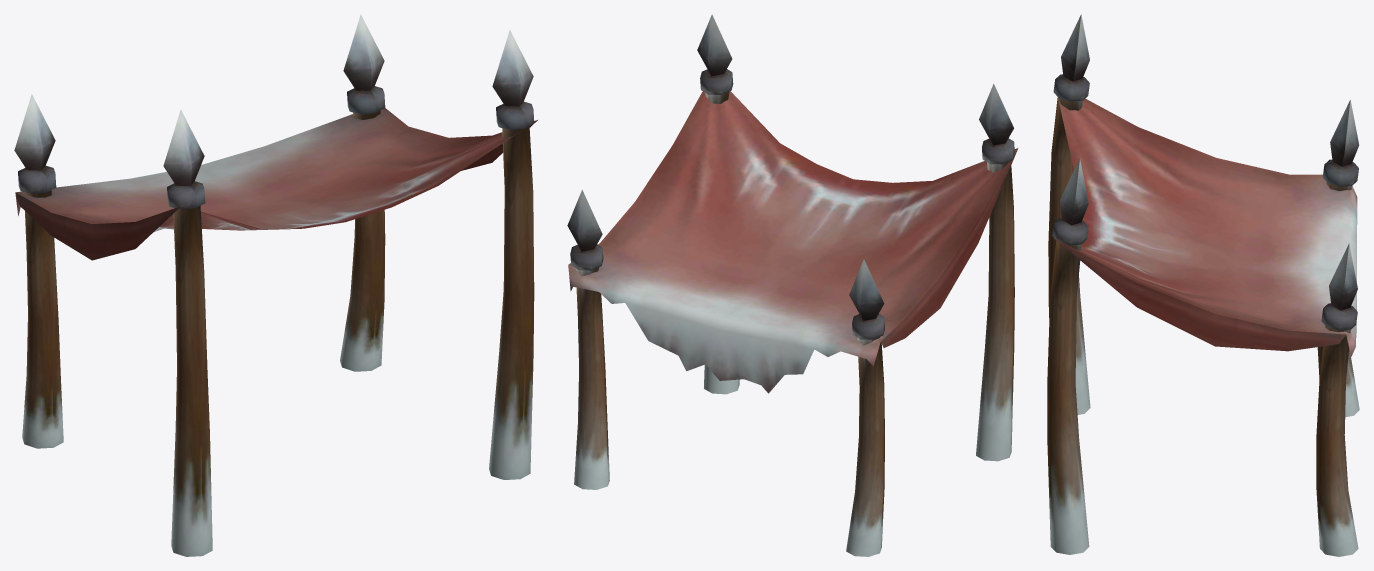
File: h5_xuepengzi.FBX
3 views of the same model, side by side, from view 1: azimuth 30°, elevation 25°; view 2: azimuth 150°, elevation 25°; view 3: azimuth 270°, elevation 25° (orthographic). The views are drawn at different scales.
Parts seen in each view (by area): view 1: h5_xuepengzi; view 2: h5_xuepengzi; view 3: h5_xuepengzi.
Part boxes in pixels (x1,y1,x2,y2): h5_xuepengzi: (14, 14, 537, 556); h5_xuepengzi: (567, 14, 1018, 556); h5_xuepengzi: (1047, 14, 1359, 556).
Bounding box in the file's own units: 2.68 × 3.03 × 2.18.
